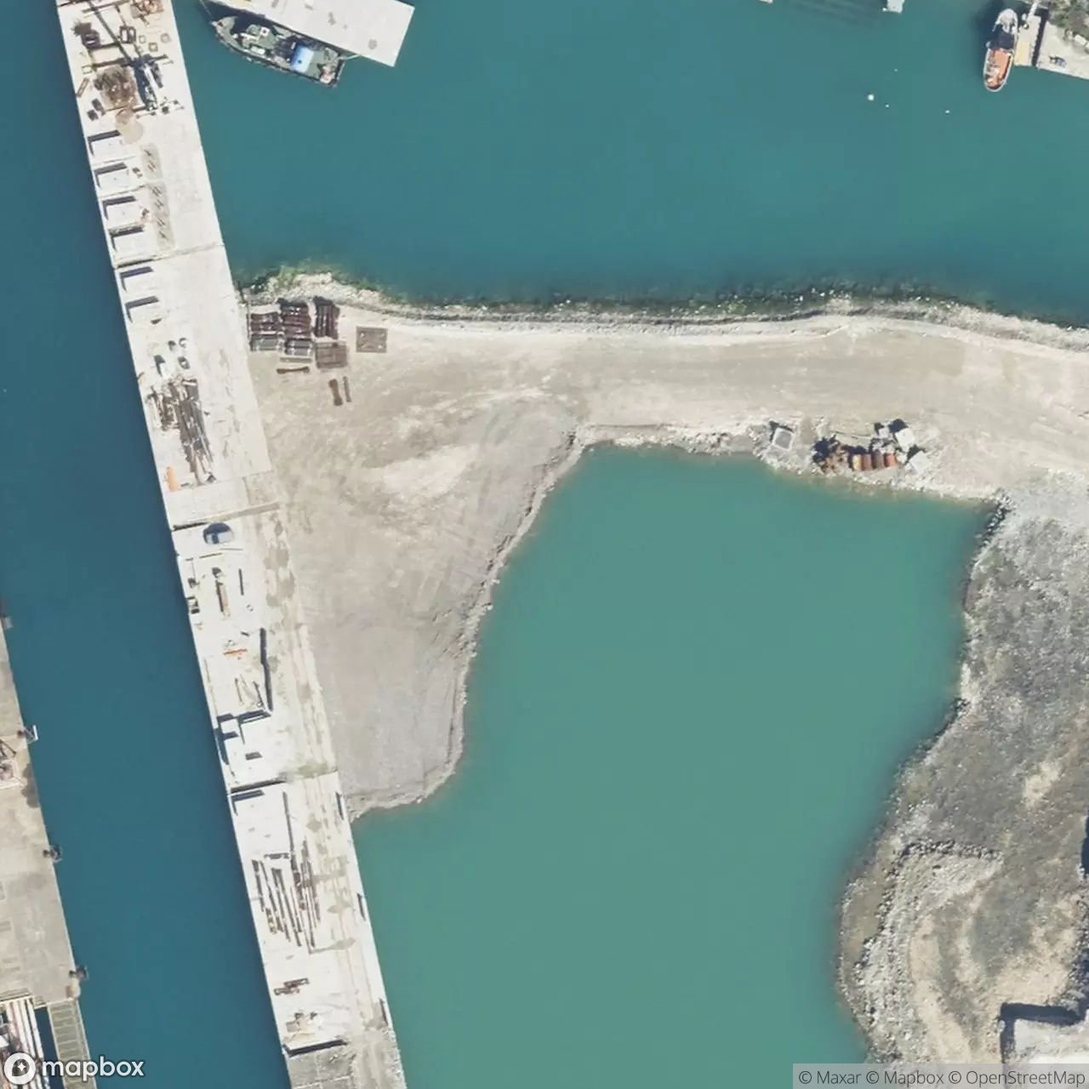Ship: (199, 0, 380, 80), (964, 0, 1024, 91)
